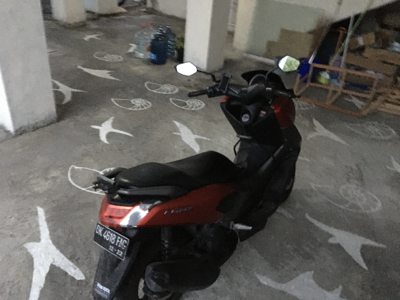moto: (90, 61, 301, 300)
